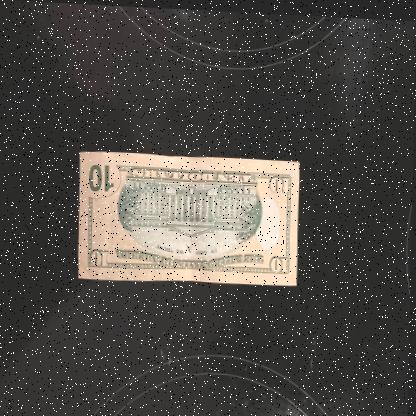ten-back: (78, 148, 302, 288)
